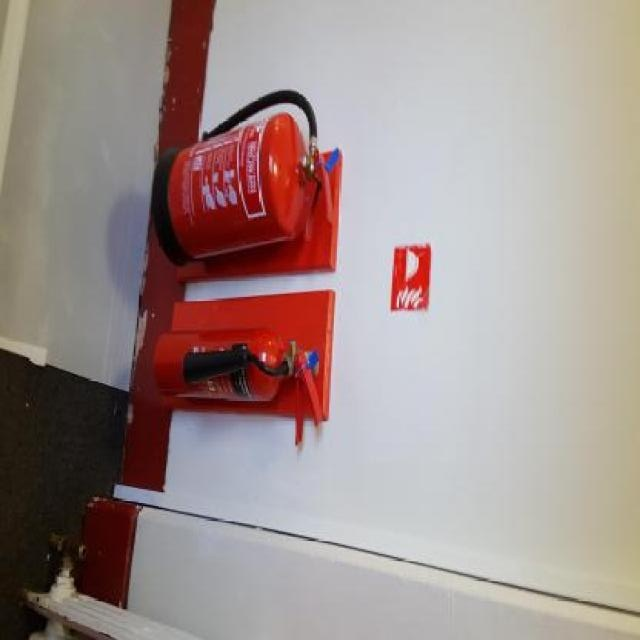fire extinguisher: (148, 72, 330, 265), (151, 291, 335, 440)
